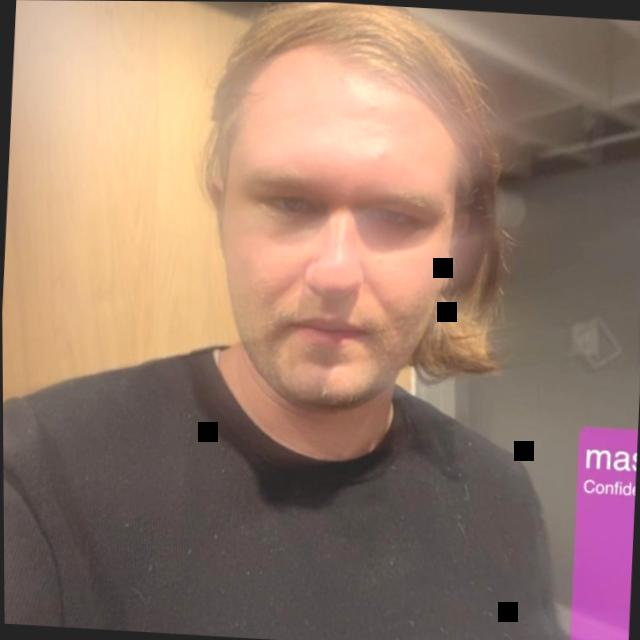NO-Mask: (137, 1, 558, 451)
